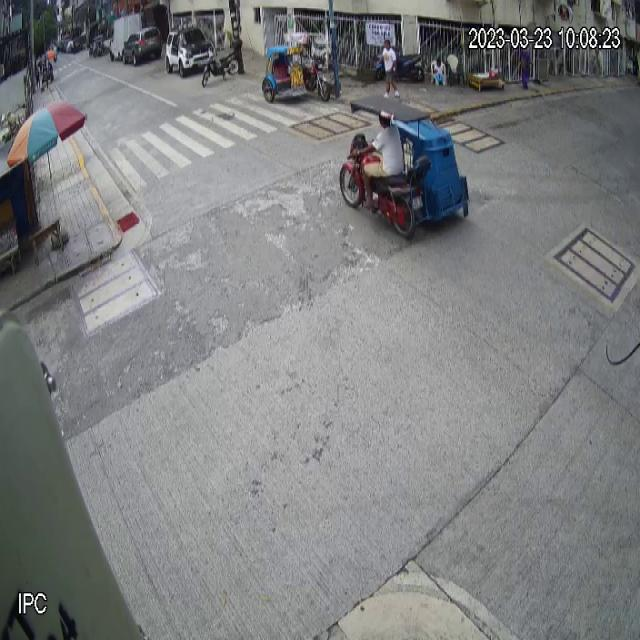Tricycle: (339, 95, 470, 238), (262, 32, 330, 102)
